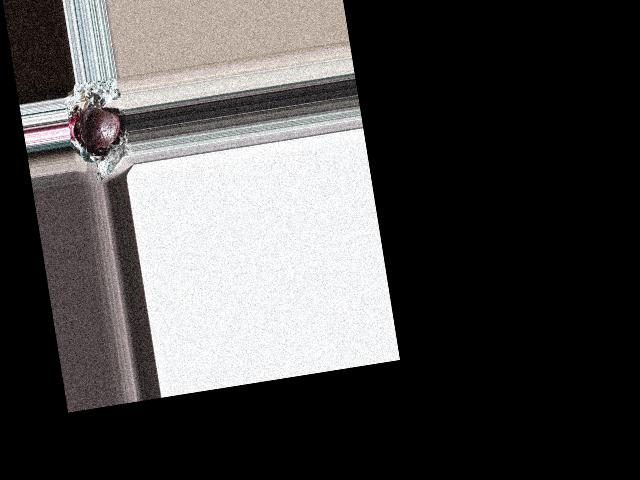beet: (77, 102, 123, 150)
